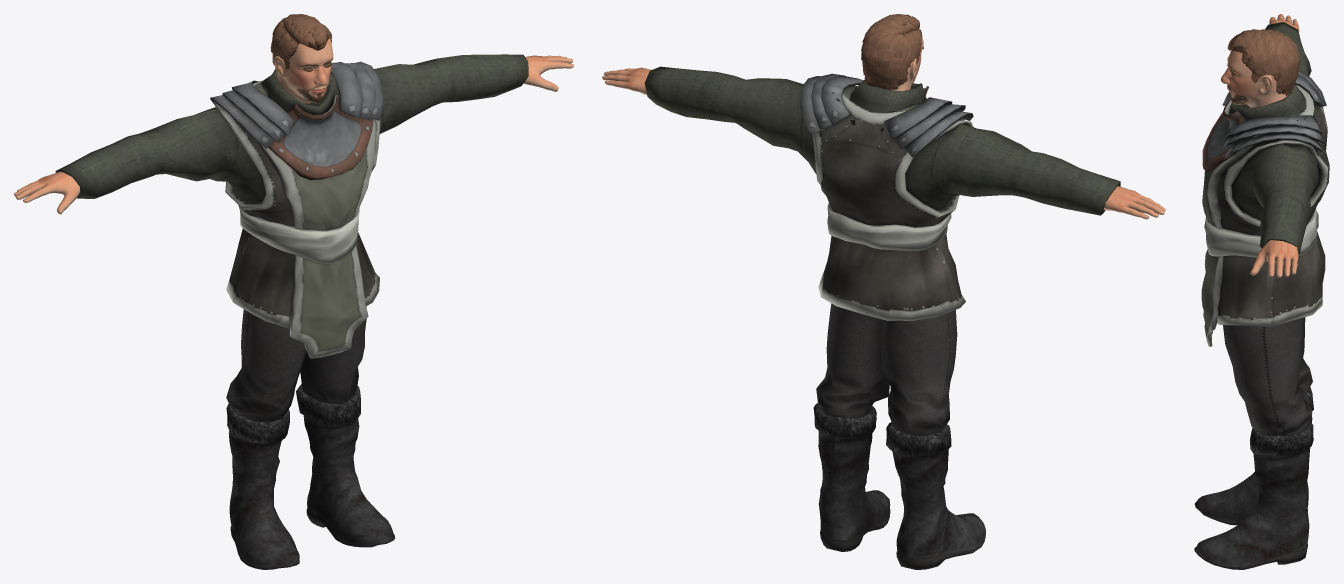
Rendered from Hero_Original.obj.
3 renders of one model, left to right at view 1: azimuth 30°, elevation 25°; view 2: azimuth 150°, elevation 25°; view 3: azimuth 270°, elevation 25°, orthographic. The views are drawn at different scales.
Parts seen in each view (by area): view 1: Tops, Shoes, Bottoms, Body, Hair; view 2: Tops, Shoes, Bottoms, Hair, Body; view 3: Tops, Shoes, Bottoms, Body, Hair.
Part boxes in pixels (x1,y1,x2,y2): Tops: [55, 54, 528, 358]; Shoes: [226, 384, 394, 569]; Bottoms: [226, 306, 366, 422]; Body: [14, 38, 573, 214]; Hair: [270, 14, 332, 71]; Tops: [644, 66, 1120, 320]; Shoes: [813, 403, 985, 569]; Bottoms: [816, 303, 957, 435]; Hair: [861, 14, 922, 89]; Body: [602, 28, 1165, 219]; Tops: [1201, 22, 1329, 346]; Shoes: [1194, 387, 1313, 569]; Bottoms: [1223, 317, 1312, 435]; Body: [1220, 14, 1299, 277]; Hair: [1227, 29, 1300, 95].
Bounding box in the file's own units: 201 × 180 × 43.71.
Materials: 5 (5 with a texture image).
